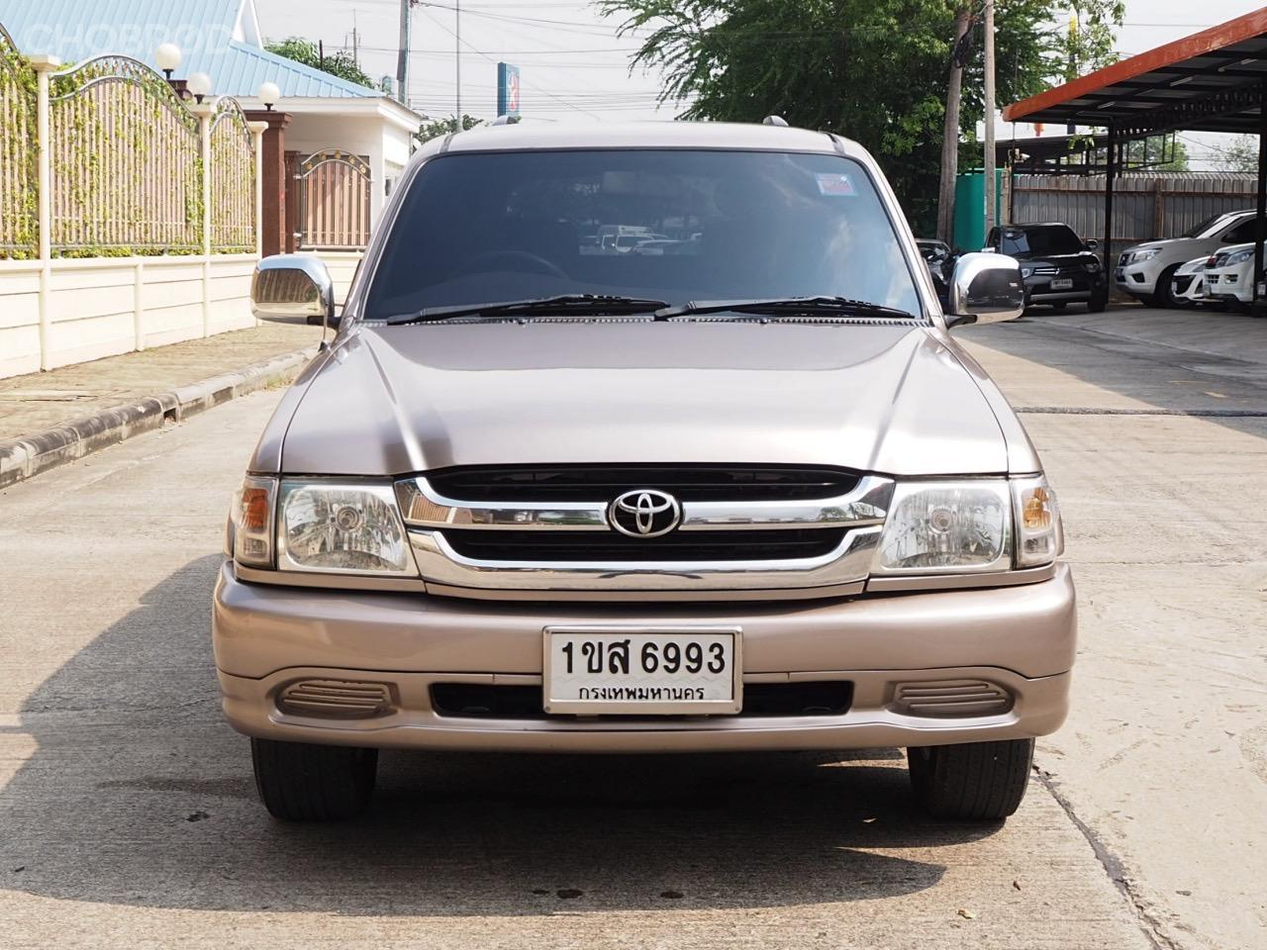license-plate: (538, 605, 751, 728)
